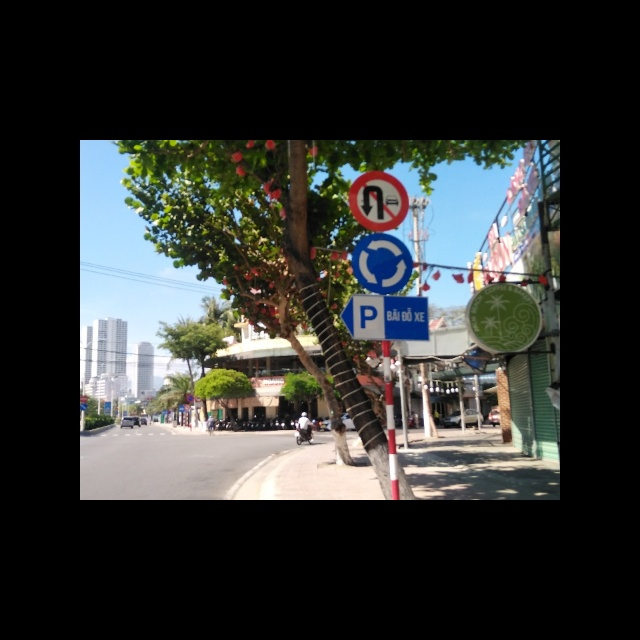Cấm xe ô tô quay đầu: (349, 172, 410, 232)
Nơi giao nhau chạy theo vòng xuyến: (352, 233, 413, 294)
Nơi đỗ xe: (343, 296, 428, 342)
